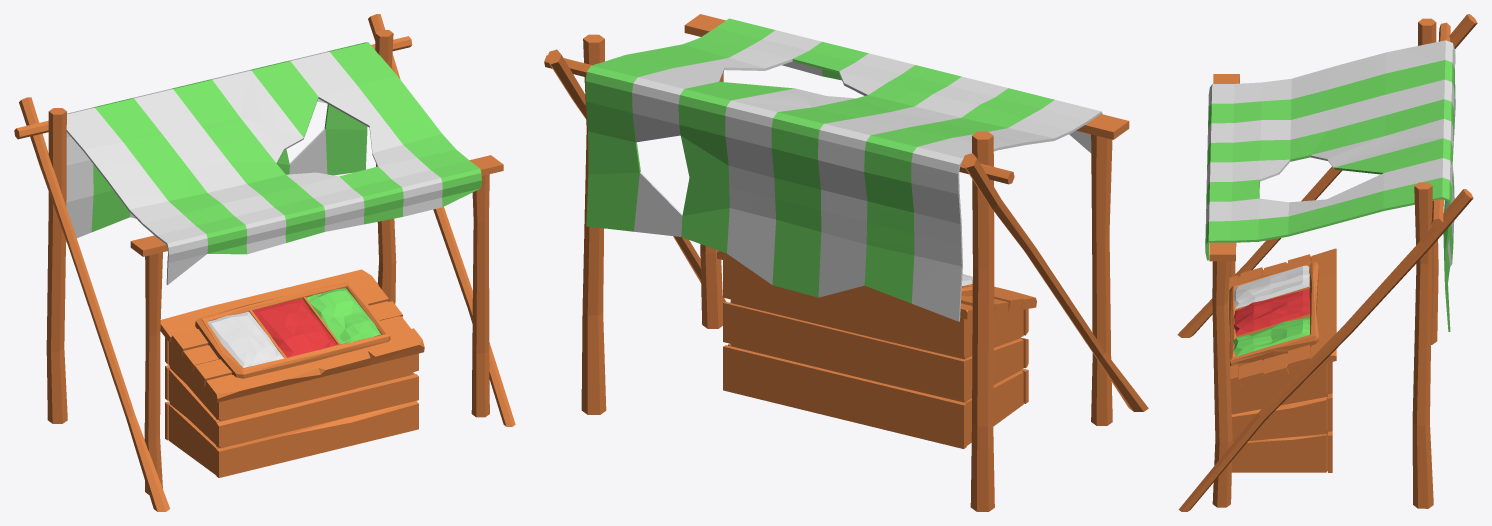
File: Stall_2.fbx
3 views of the same model, side by side, from view 1: azimuth 30°, elevation 25°; view 2: azimuth 150°, elevation 25°; view 3: azimuth 270°, elevation 25° (orthographic). The views are drawn at different scales.
Parts seen in each view (by area): view 1: Stall_2; view 2: Stall_2; view 3: Stall_2.
Boxes of the visible parts, x1,y1,x2,y2 form: Stall_2: (14,14,515,511); Stall_2: (544,14,1148,511); Stall_2: (1177,14,1477,511).
Bounding box in the file's own units: 3.9 × 2.99 × 2.53.
